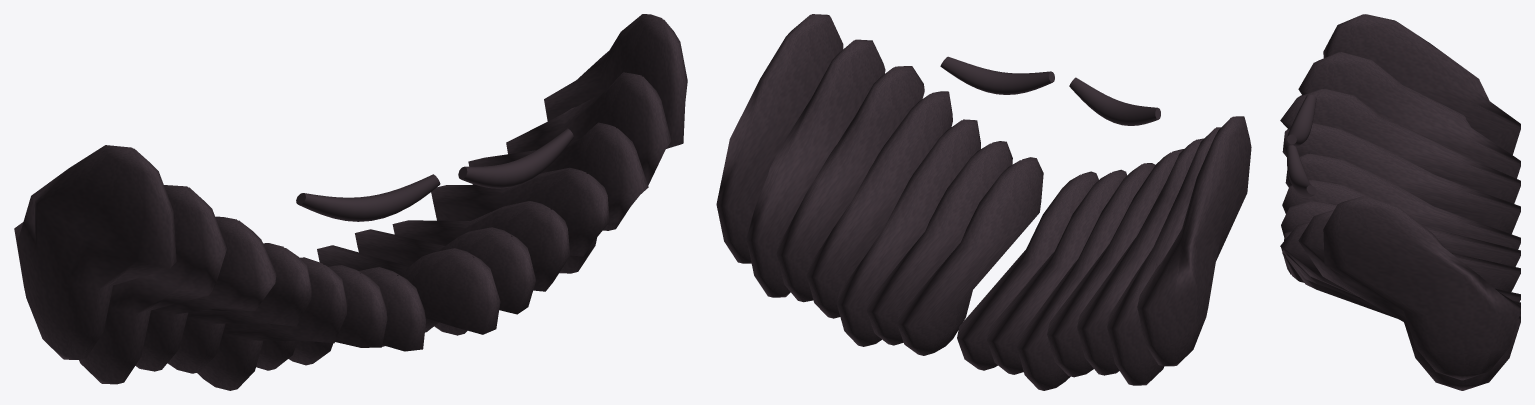
The model's file is facial_rugged_medium_beard_default.gltf.
3 views of the same model, side by side, from view 1: azimuth 30°, elevation 25°; view 2: azimuth 150°, elevation 25°; view 3: azimuth 270°, elevation 25° (orthographic). The views are drawn at different scales.
Visible parts, largest first — view 1: Rugged Medium Beard; view 2: Rugged Medium Beard; view 3: Rugged Medium Beard.
Part boxes in pixels (box(x1,y1,x2,y2)): Rugged Medium Beard: box(14, 14, 687, 390); Rugged Medium Beard: box(716, 14, 1251, 390); Rugged Medium Beard: box(1280, 14, 1520, 390).
Size of the model in its own units: 0.3971 by 0.2132 by 0.2025.
1 material, 1 textured.
